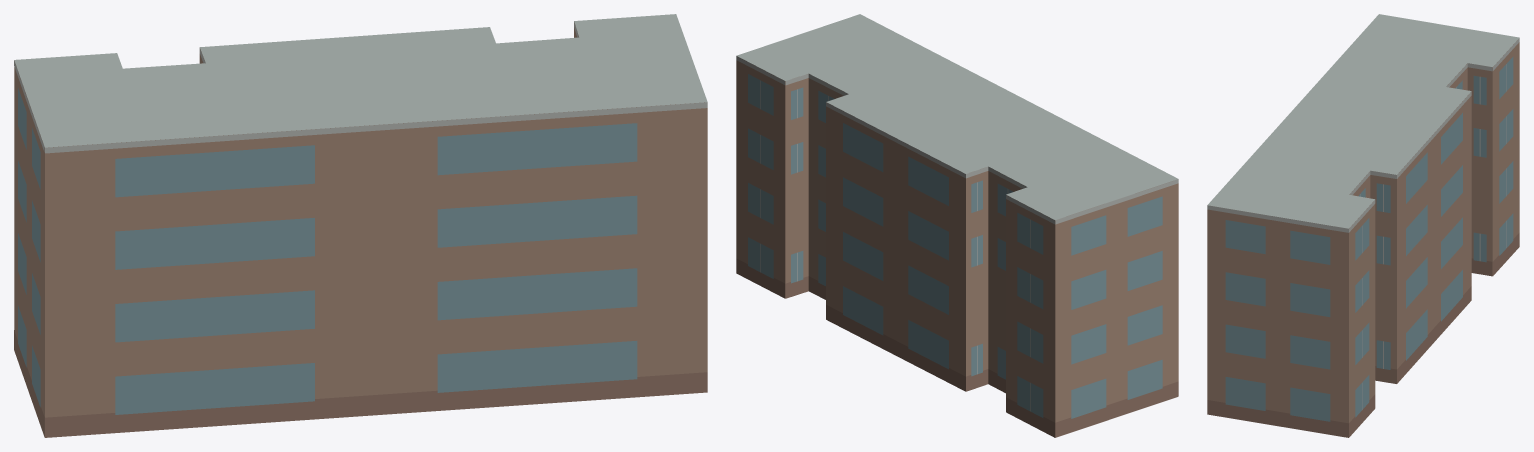
File: survey-upis-32872732.glb
The picture shows the model from 3 angles, left to right: view 1: azimuth 30°, elevation 25°; view 2: azimuth 150°, elevation 25°; view 3: azimuth 270°, elevation 25°; orthographic projection. The views are drawn at different scales.
Visible parts, largest first — view 1: survey-upis-32872732.tmp; view 2: survey-upis-32872732.tmp; view 3: survey-upis-32872732.tmp.
Boxes of the visible parts, x1,y1,x2,y2 form: survey-upis-32872732.tmp: (14,14,707,437); survey-upis-32872732.tmp: (736,14,1178,437); survey-upis-32872732.tmp: (1207,14,1519,437).
Bounding box in the file's own units: 26.87 × 12.2 × 16.53.
